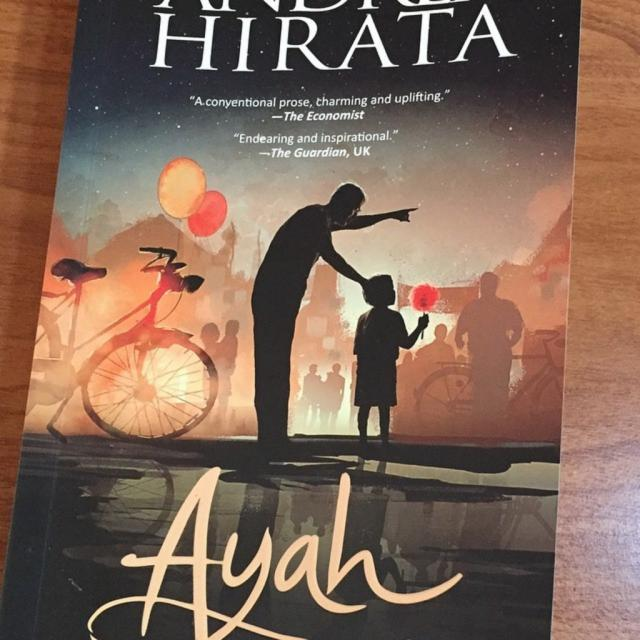book: (1, 1, 630, 637)
